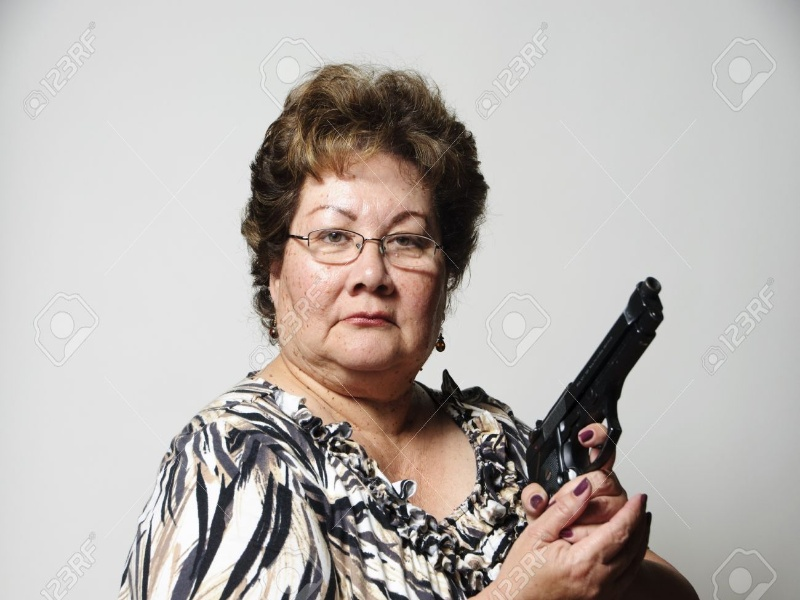gun: (515, 259, 671, 554)
